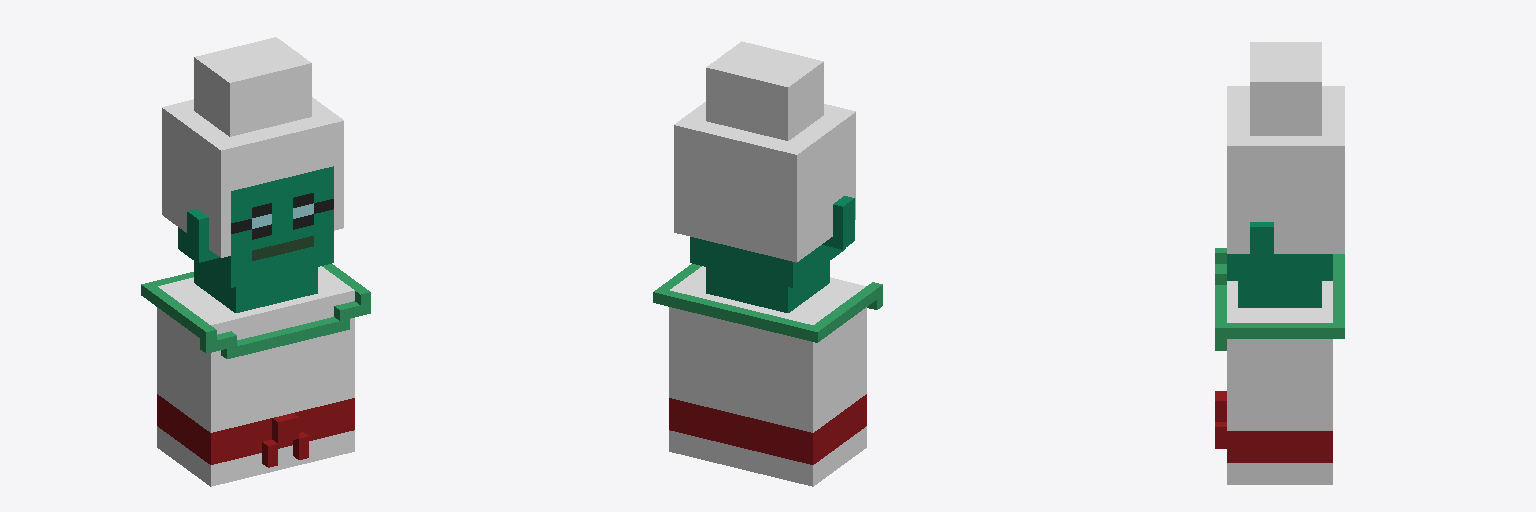
3 renders of one model, left to right at view 1: azimuth 30°, elevation 25°; view 2: azimuth 150°, elevation 25°; view 3: azimuth 270°, elevation 25°, orthographic.
Visible parts, largest first — view 1: object 1; view 2: object 1; view 3: object 1.
Part boxes in pixels (x1,y1,x2,y2): object 1: (141, 37, 370, 486); object 1: (653, 41, 882, 486); object 1: (1215, 42, 1344, 484).
Bounding box in the file's own units: 1.6 × 3.6 × 1.1.
Materials: 1 (1 with a texture image).